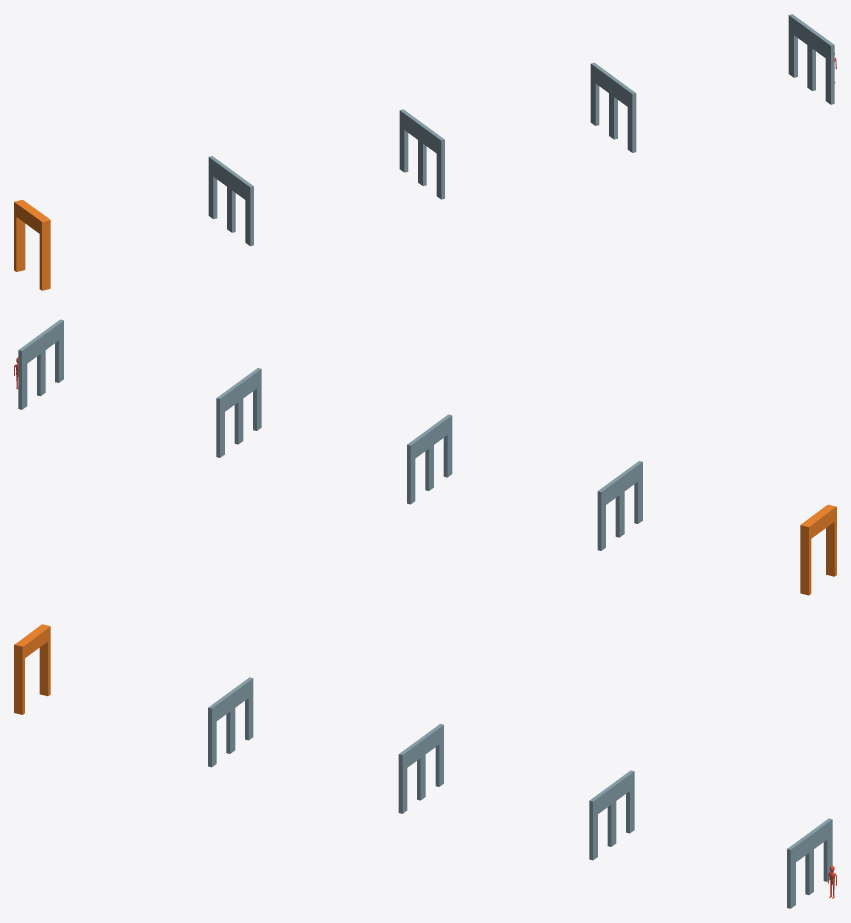
File: Level1Doors.fbx
The picture shows the model from 3 angles, top to bottom: view 1: azimuth 30°, elevation 25°; view 2: azimuth 150°, elevation 25°; view 3: azimuth 330°, elevation 25°; orthographic projection.
Visible parts, largest first — view 1: BedroomWallFront, Object002, DoorWay3, Object001, StageWallFront; view 2: BedroomWallFront, Object002, Object001, DoorWay3, StageWallFront; view 3: DoorWay3, Object002, Object001, BedroomWallFront, StageWallFront.
Boxes of the visible parts, x1,y1,x2,y2 form: BedroomWallFront: [788, 14, 834, 104]; Object002: [590, 62, 636, 152]; DoorWay3: [208, 156, 253, 246]; Object001: [399, 109, 444, 199]; StageWallFront: [14, 199, 50, 290]; BedroomWallFront: [18, 319, 63, 409]; Object002: [216, 368, 261, 457]; Object001: [407, 414, 452, 504]; DoorWay3: [597, 461, 642, 550]; StageWallFront: [800, 504, 836, 595]; DoorWay3: [208, 677, 253, 767]; Object002: [589, 770, 634, 860]; Object001: [398, 724, 443, 813]; BedroomWallFront: [787, 818, 832, 908]; StageWallFront: [14, 624, 50, 714].
Bounding box in the file's own units: 4661 × 377 × 419.
